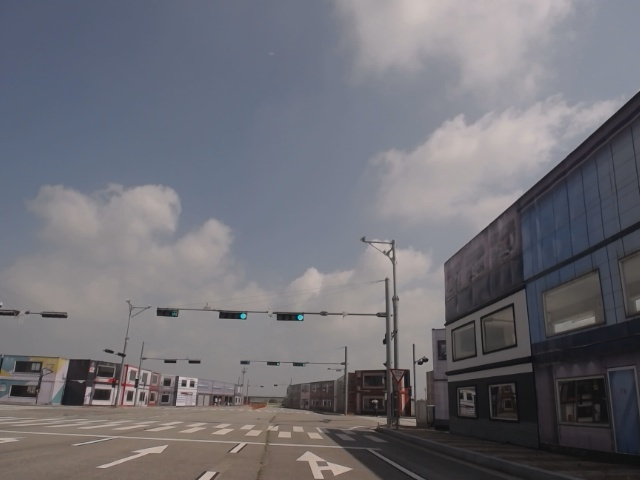straight_green_4: (218, 309, 248, 320), (274, 311, 303, 321)
